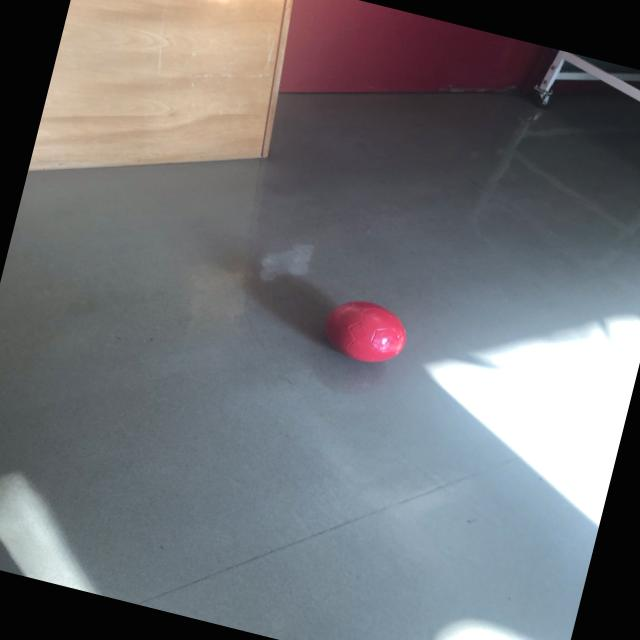red_ball: (317, 291, 408, 366)
